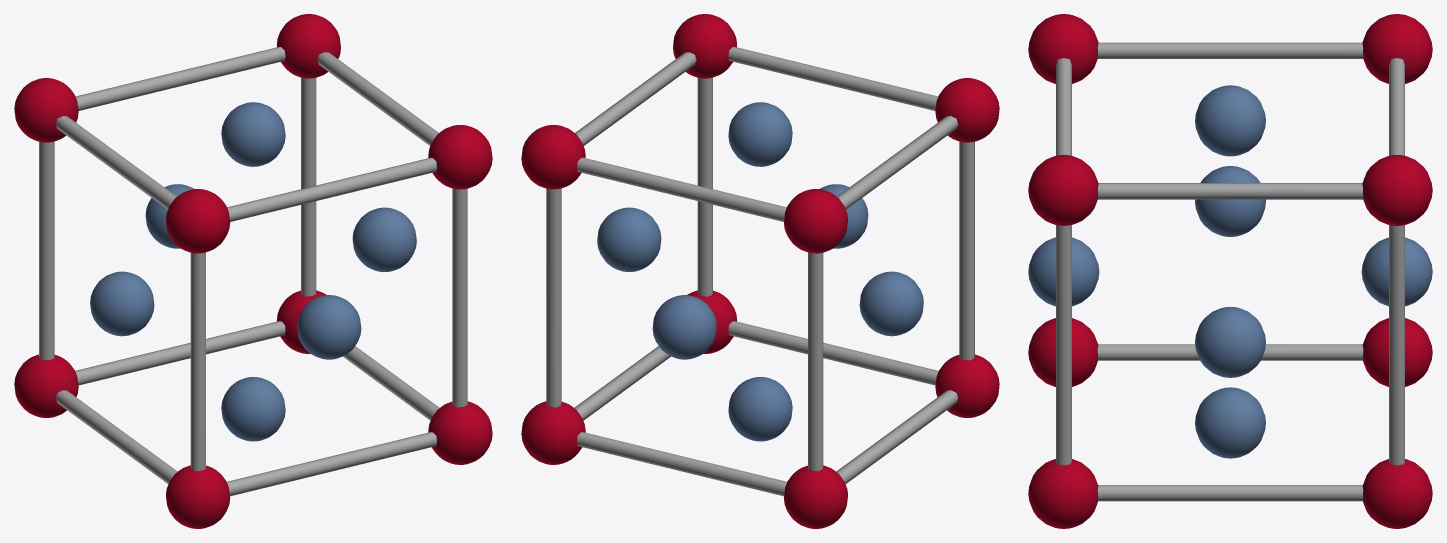
Rendered from Face Centred Cubic Unit Cell.glb.
The picture shows the model from 3 angles, left to right: view 1: azimuth 30°, elevation 25°; view 2: azimuth 150°, elevation 25°; view 3: azimuth 270°, elevation 25°; orthographic projection. The views are drawn at different scales.
Visible parts, largest first — view 1: FaceCenteredCubicUnitCell; view 2: FaceCenteredCubicUnitCell; view 3: FaceCenteredCubicUnitCell.
Part boxes in pixels (left/top/right/bottom): FaceCenteredCubicUnitCell: left=14, top=14, right=492, bottom=528; FaceCenteredCubicUnitCell: left=521, top=14, right=999, bottom=528; FaceCenteredCubicUnitCell: left=1028, top=14, right=1432, bottom=528.
Bounding box in the file's own units: 96.73 × 96.96 × 96.73.
Materials: 1 (1 with a texture image).
